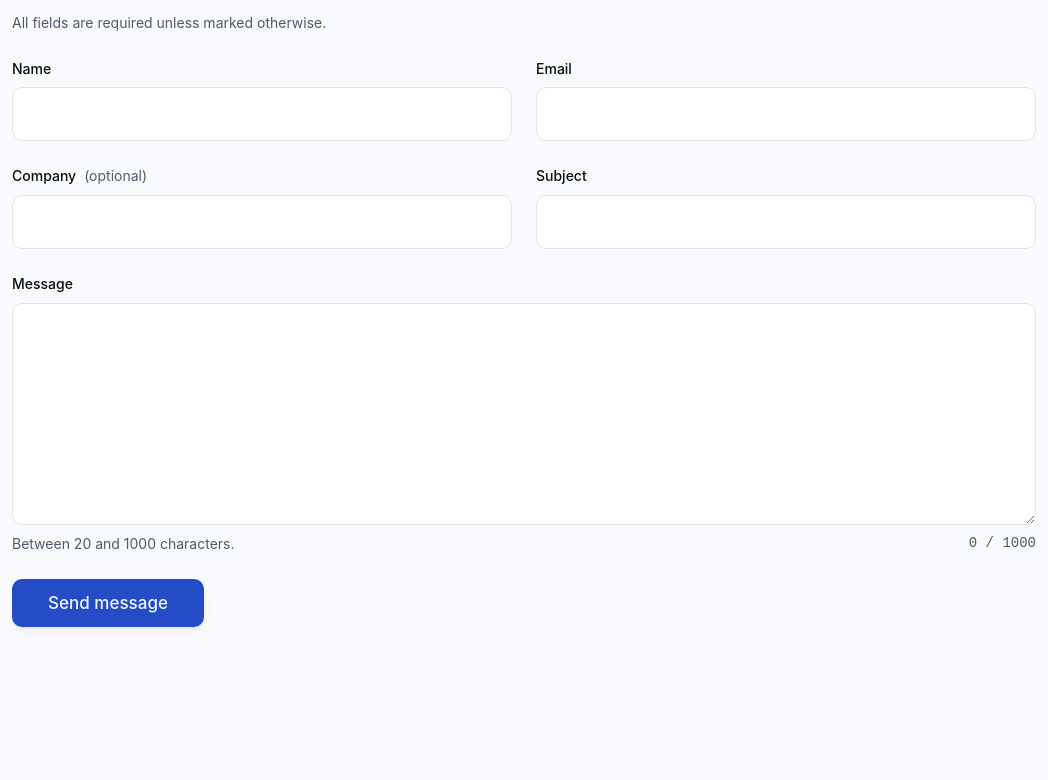
Test: ContactForm › rejects a name with digits using a translated message
The image size is (1048, 780).
Type "R2D2" into the field labelled "Name" at (262, 114), box [12,87,512,141]
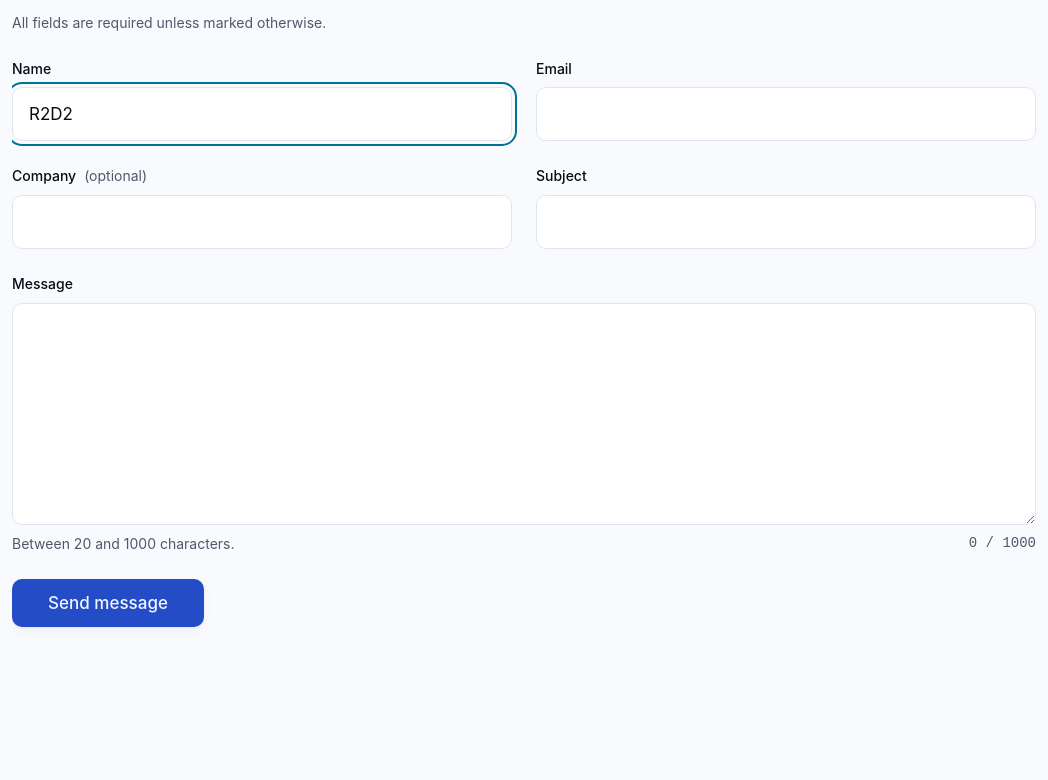
Press Tab
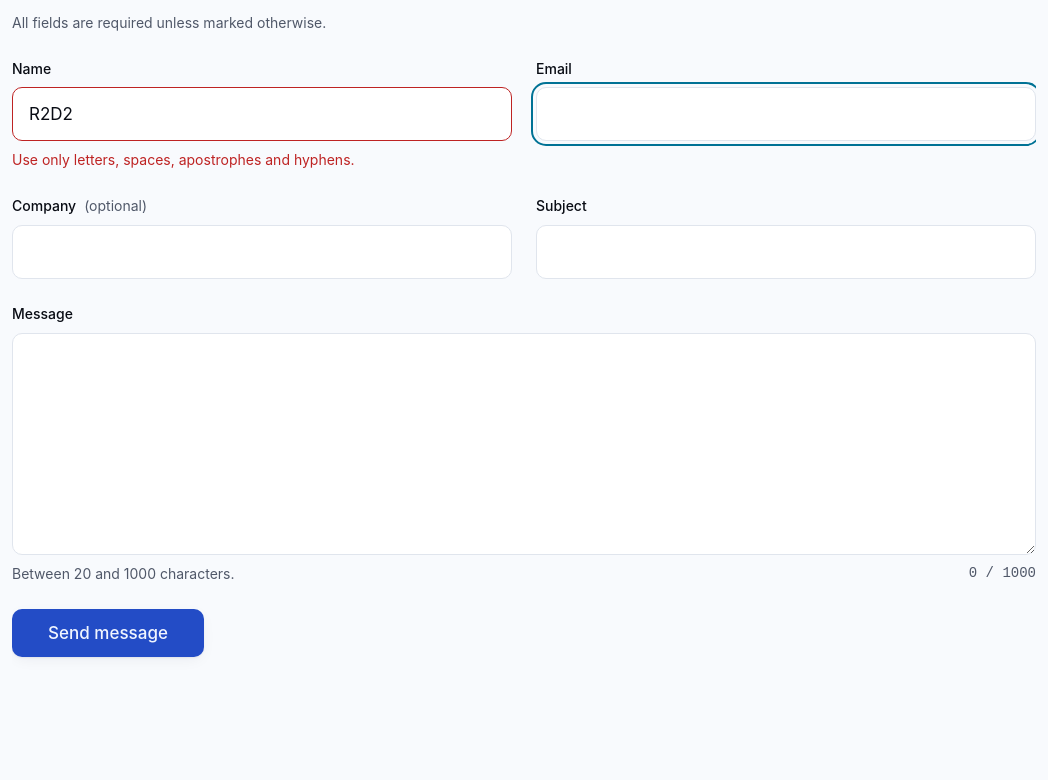
Expected: the text "Use only letters, spaces, apostrophes and hyphens." is shown, [12,151,355,168]
